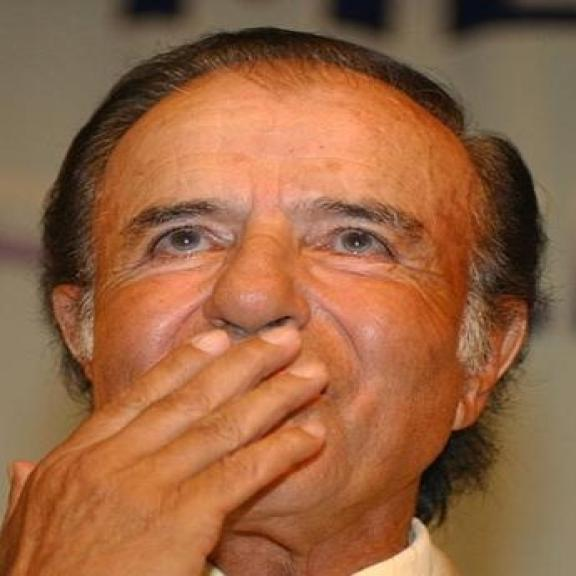face: (54, 74, 531, 525)
